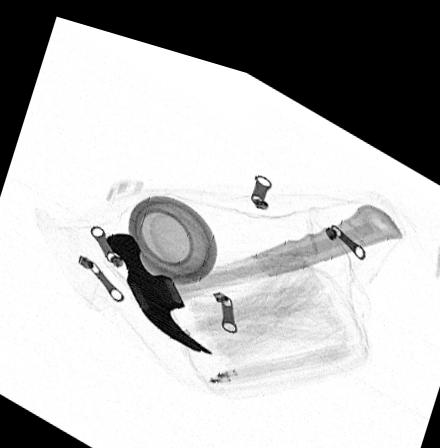Hammer: (104, 180, 404, 341)
